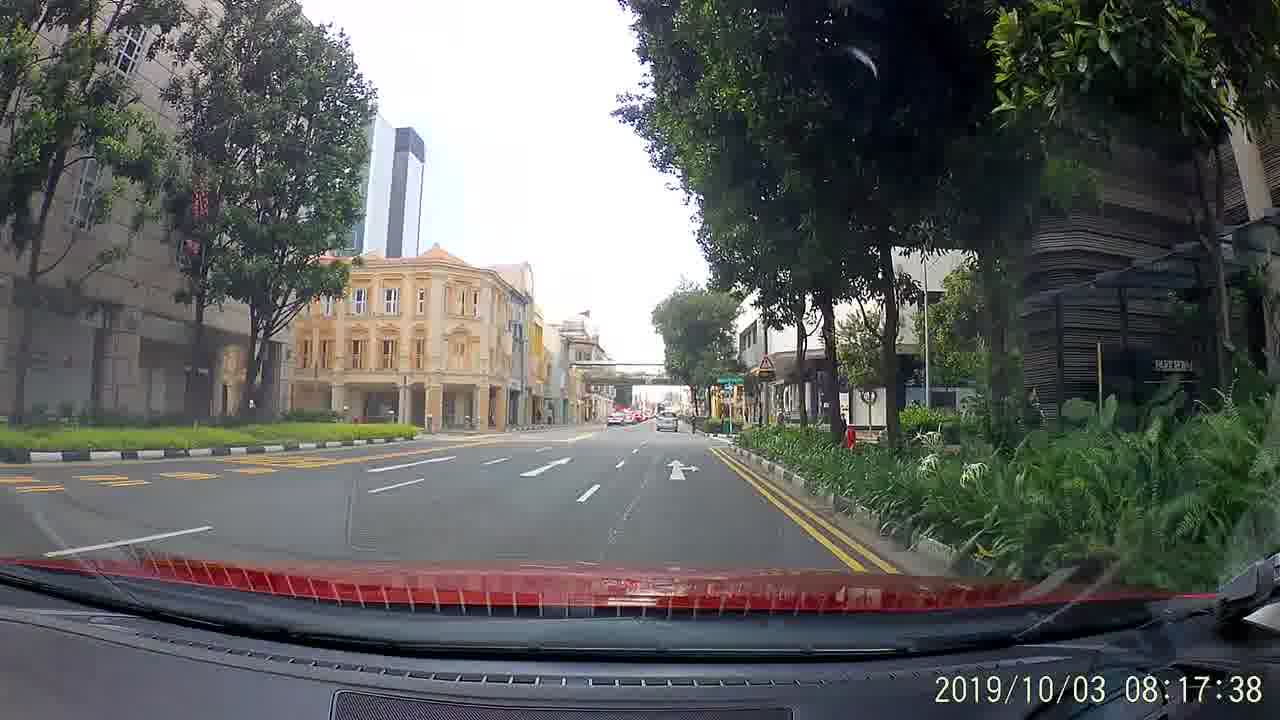car: (655, 410, 679, 435), (607, 410, 627, 426)
